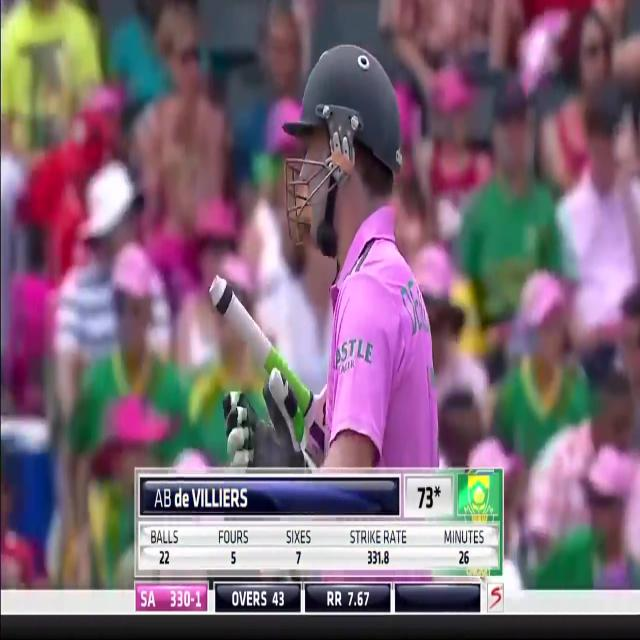Ball: (251, 48, 444, 469)
